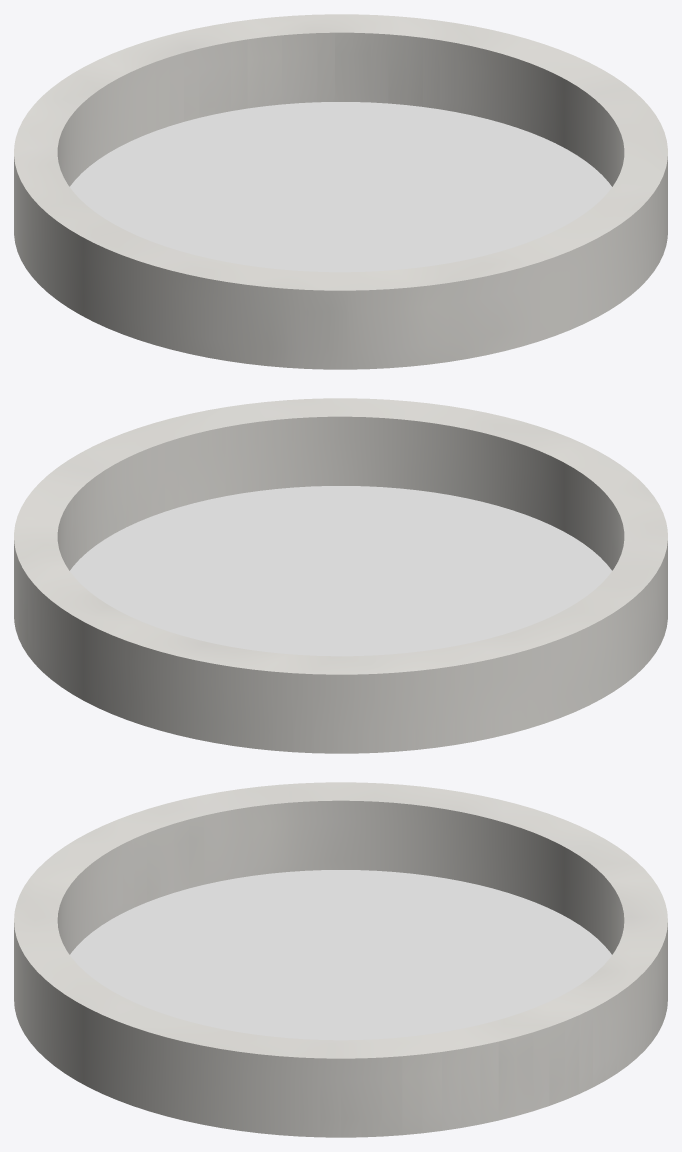
The model's file is spot_light.glb.
3 renders of one model, top to bottom at view 1: azimuth 30°, elevation 25°; view 2: azimuth 150°, elevation 25°; view 3: azimuth 270°, elevation 25°, orthographic.
Parts seen in each view (by area): view 1: Geom3D (×2); view 2: Geom3D (×2); view 3: Geom3D (×2).
Part boxes in pixels (bbox=[...]): Geom3D (×2): bbox=[14, 14, 667, 369]; Geom3D (×2): bbox=[14, 398, 667, 753]; Geom3D (×2): bbox=[14, 782, 667, 1137].
Bounding box in the file's own units: 0.06 × 0.008 × 0.06.
2 materials, 1 textured.
